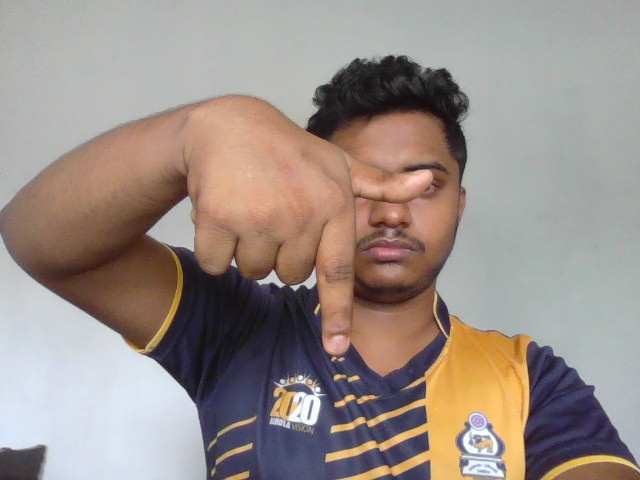Later: (187, 96, 433, 360)
